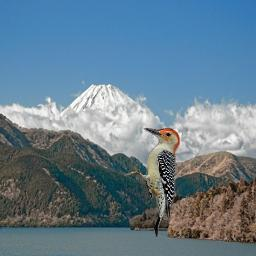Woodpecker: (124, 128, 180, 237)
